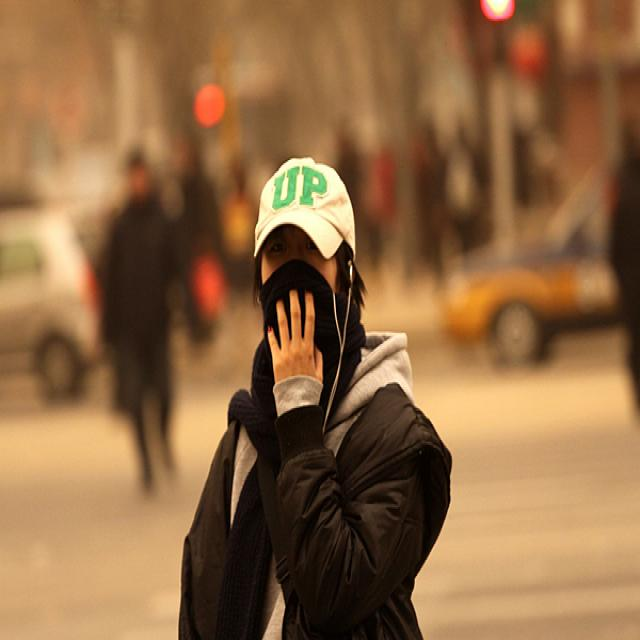mask: (260, 222, 340, 354)
